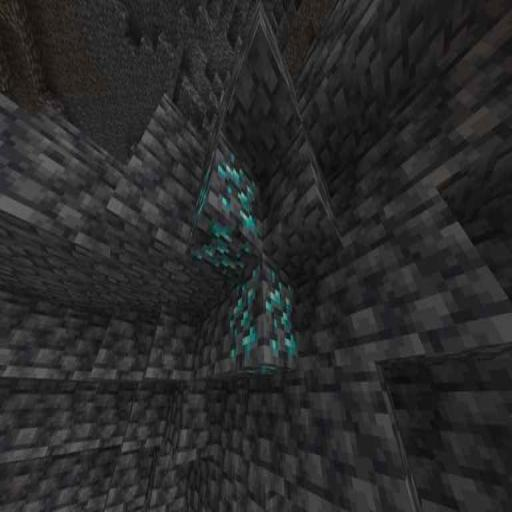diamond ore: (187, 140, 303, 383)
